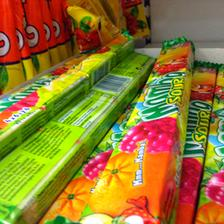Suessigkeit: (14, 44, 149, 224), (103, 39, 193, 223), (172, 54, 224, 216)
